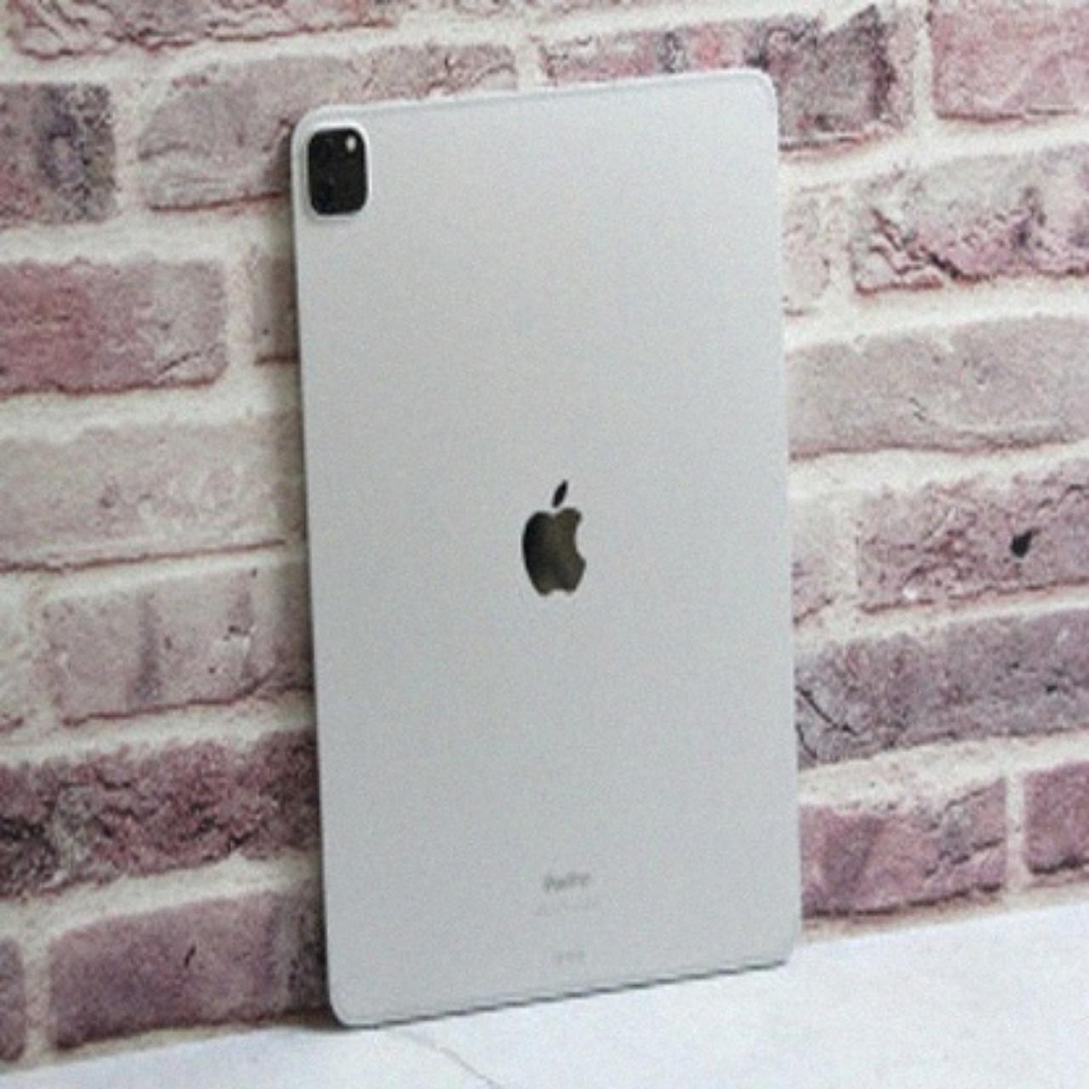Tablet_PC: (275, 55, 822, 1023)
